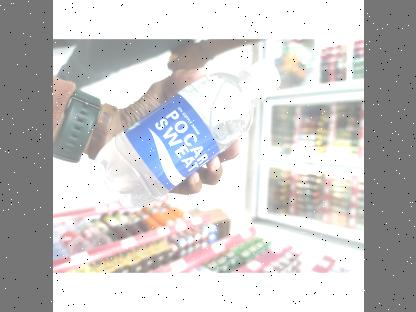Plastic Bottle: (92, 59, 280, 209)
